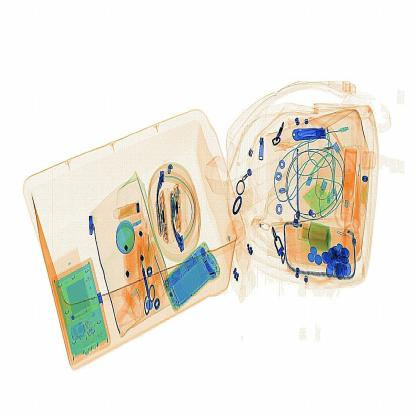knife: (290, 120, 331, 153)
